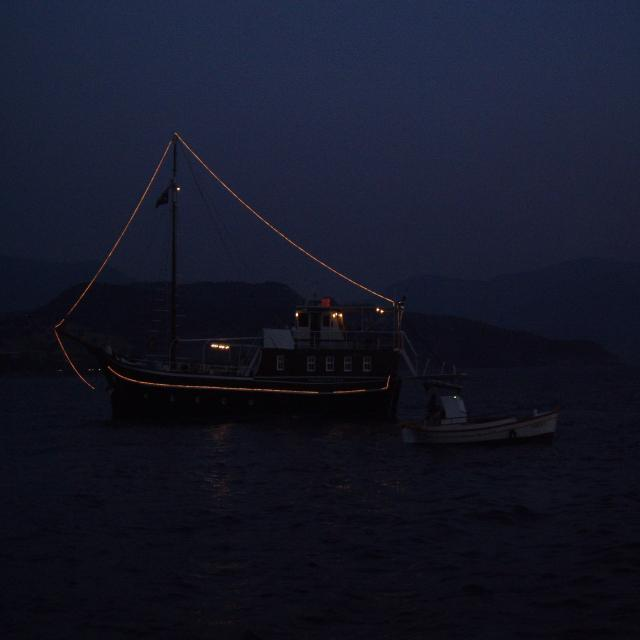Boat: (58, 195, 426, 420), (397, 398, 569, 447)
